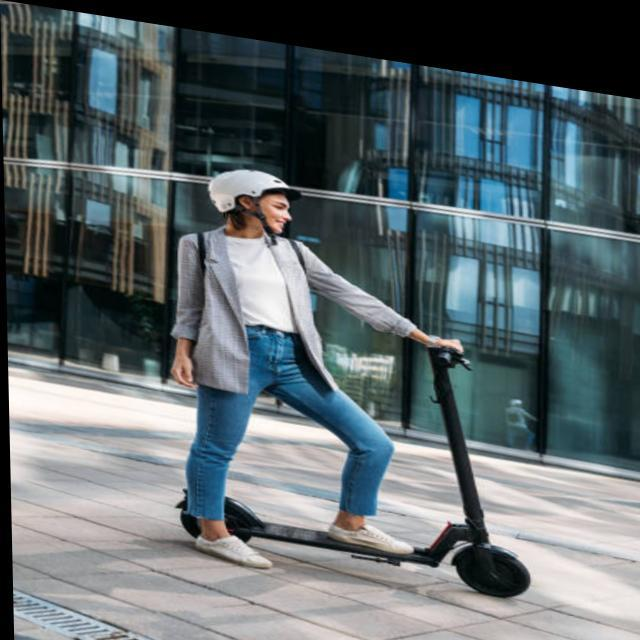Helmet: (203, 156, 307, 250)
